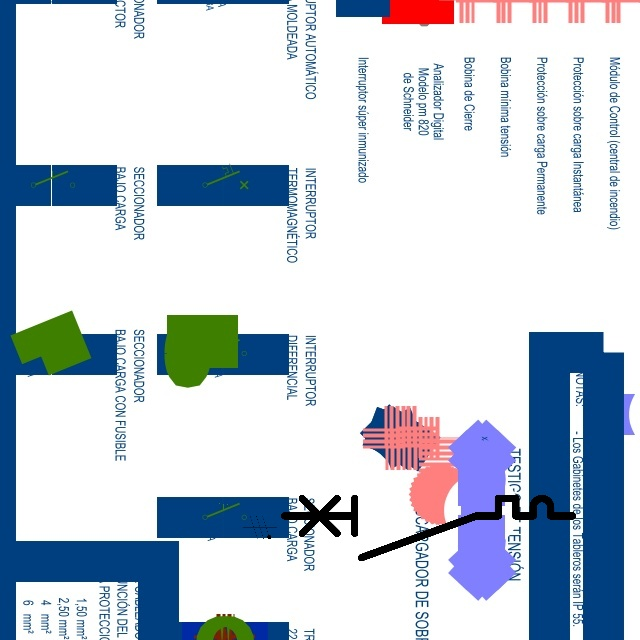interruptor_termomagnetico: (277, 491, 579, 565)
